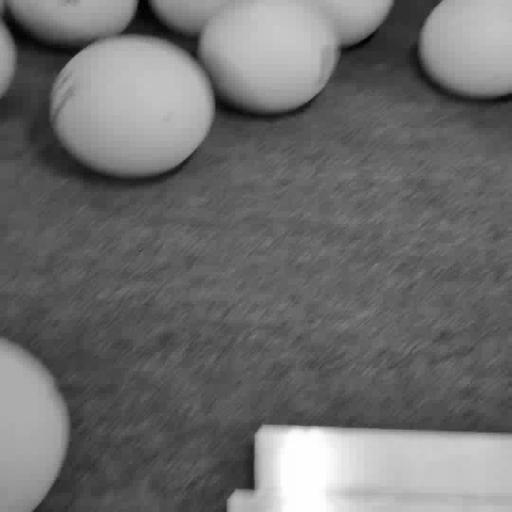fuel: (50, 35, 215, 177), (198, 0, 339, 114), (0, 338, 70, 511)
